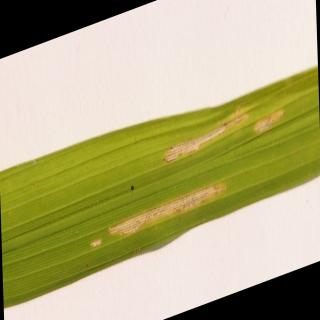Hawar-Daun: (108, 178, 230, 250), (164, 102, 249, 166), (255, 102, 284, 138), (90, 233, 101, 253)
